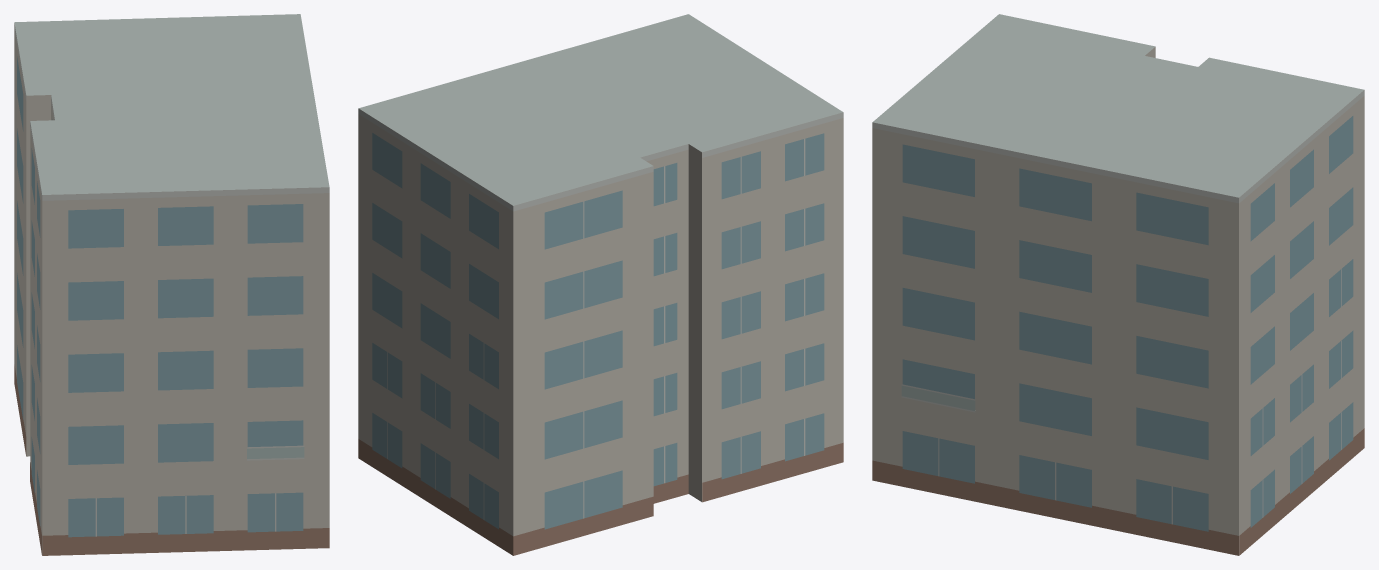
File: survey-upis-32923513.glb
3 views of the same model, side by side, from view 1: azimuth 30°, elevation 25°; view 2: azimuth 150°, elevation 25°; view 3: azimuth 270°, elevation 25° (orthographic). The views are drawn at different scales.
Visible parts, largest first — view 1: survey-upis-32923513.tmp; view 2: survey-upis-32923513.tmp; view 3: survey-upis-32923513.tmp.
Part boxes in pixels (box(x1,y1,x2,y2)): survey-upis-32923513.tmp: box(14, 14, 329, 555); survey-upis-32923513.tmp: box(358, 14, 843, 555); survey-upis-32923513.tmp: box(872, 14, 1364, 555).
Size of the model in its own units: 16.79 by 15.25 by 19.
